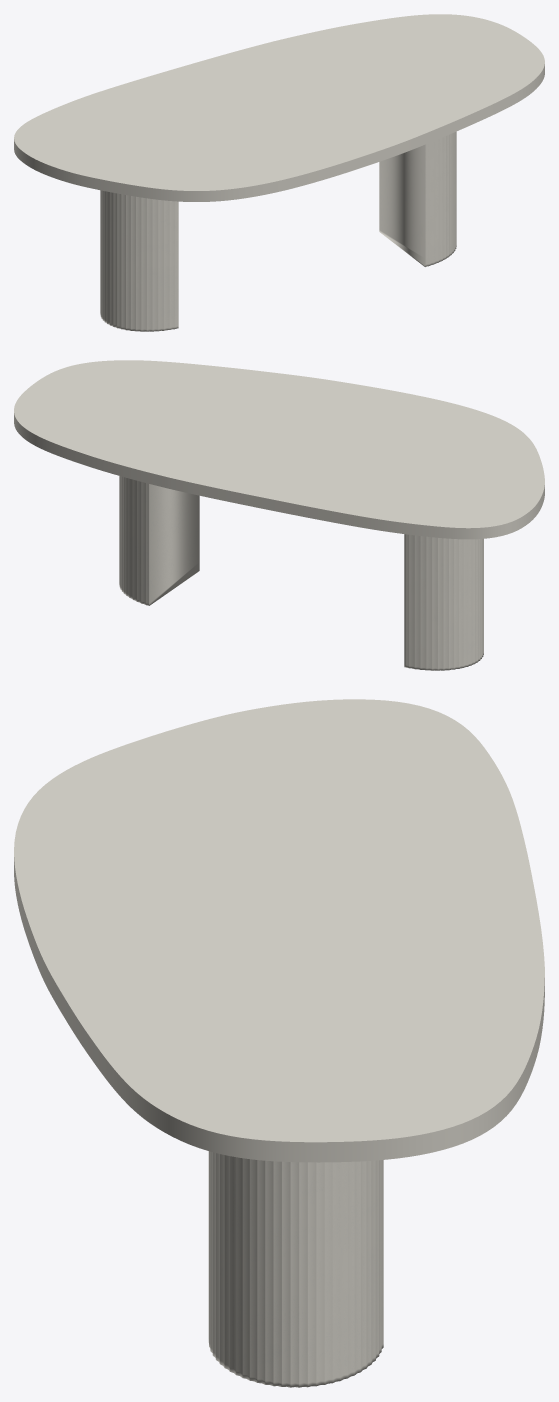
Rendered from pale_leaf2_standard_flute.glb.
The picture shows the model from 3 angles, top to bottom: view 1: azimuth 30°, elevation 25°; view 2: azimuth 150°, elevation 25°; view 3: azimuth 270°, elevation 25°; orthographic projection. The views are drawn at different scales.
Parts seen in each view (by area): view 1: standard_leaf2, flute; view 2: standard_leaf2, flute; view 3: standard_leaf2, flute.
Part boxes in pixels (x1,y1,x2,y2): standard_leaf2: [14, 14, 544, 201]; flute: [100, 131, 456, 331]; standard_leaf2: [14, 360, 544, 539]; flute: [119, 476, 483, 670]; standard_leaf2: [14, 699, 544, 1162]; flute: [208, 1151, 383, 1387].
Bounding box in the file's own units: 7.5 × 2.52 × 3.8.
Materials: 1 (1 with a texture image).
